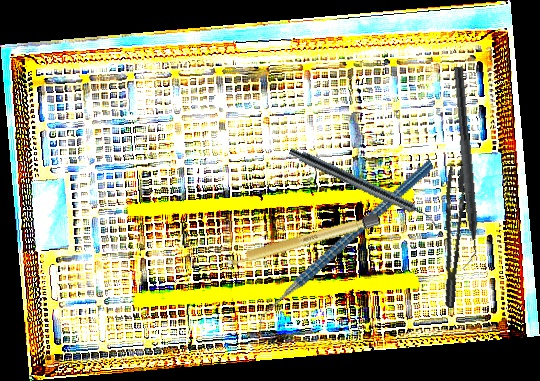Chopper: (221, 158, 469, 339), (439, 66, 485, 272)
Handpiece: (286, 145, 441, 228)
Scalpel Handle: (223, 212, 381, 269)
Tissue Forceps: (425, 163, 479, 309)
